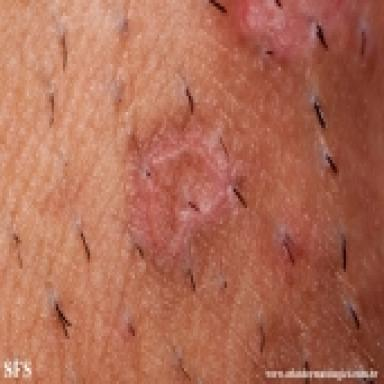Porokeratosis: (130, 111, 235, 273)
